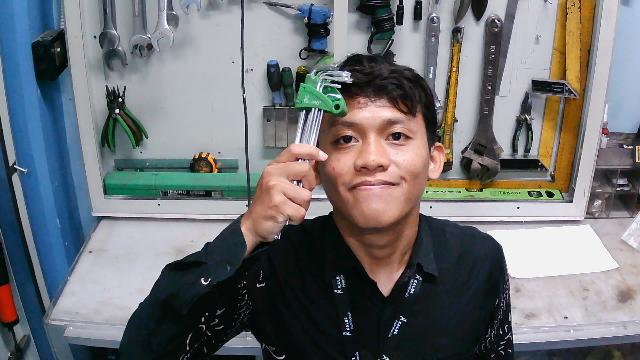kunci_l_bintang: (270, 66, 355, 242)
